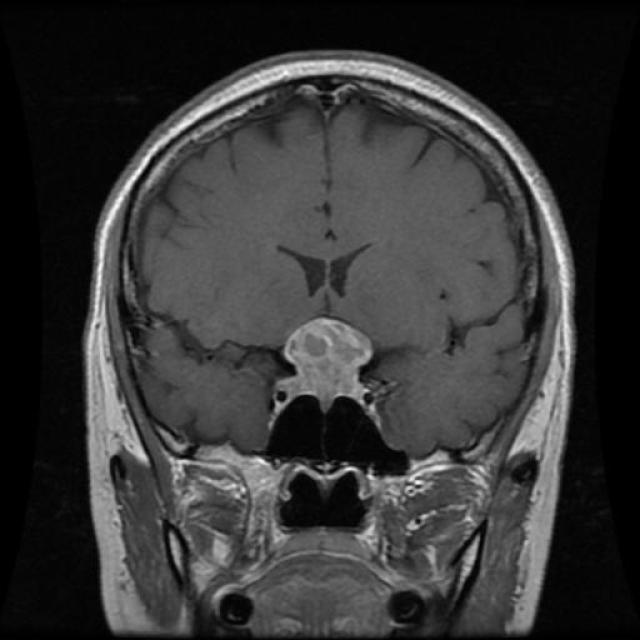pituitary: (268, 308, 388, 429)
